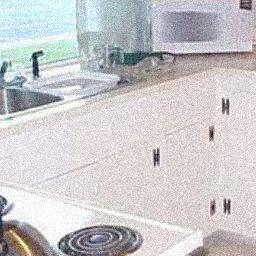Lavaplatos: (17, 43, 146, 98), (0, 55, 78, 126)
